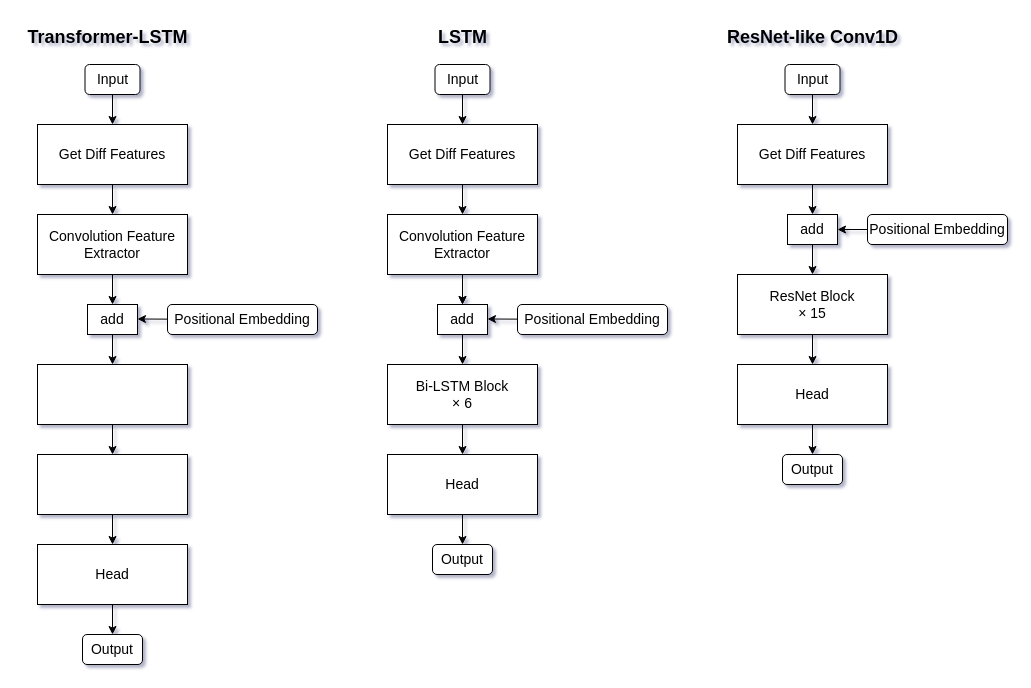
This 1031x688 diagram has some shape labels left out. The centre of each missing label's shape, as x and y in pixels:
"Bi-LSTM Block × 2" goes at (112,484).
"Transformer Encoder × 4" goes at (112,394).
